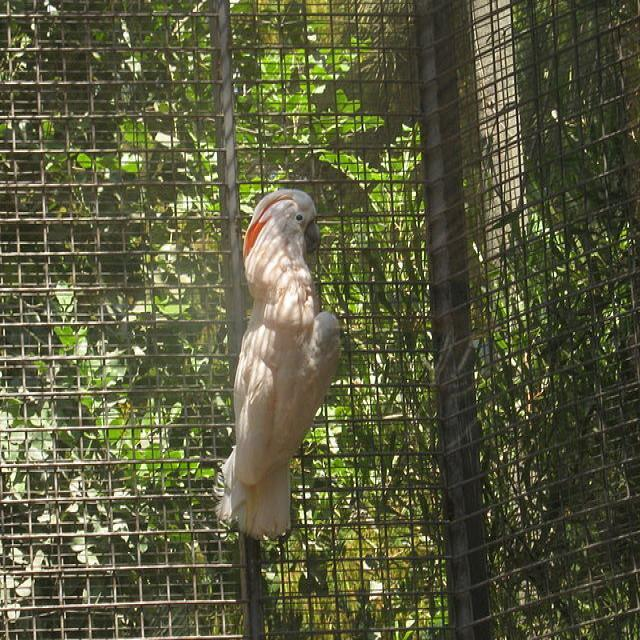Kakatua Putih: (201, 173, 343, 554)
